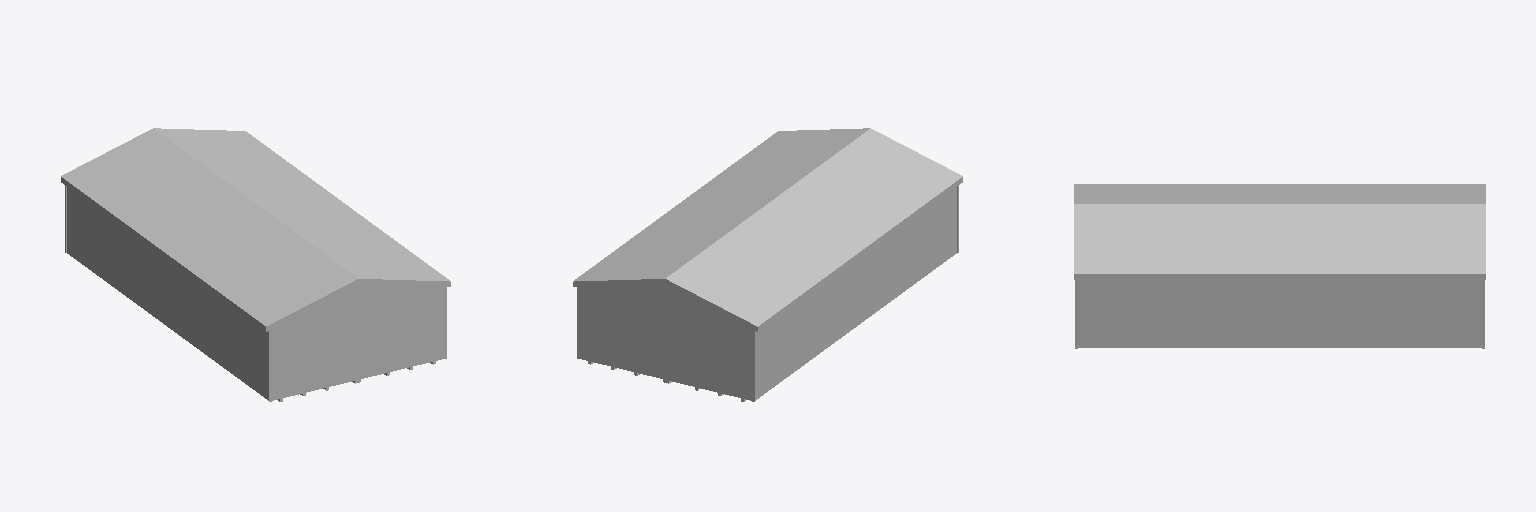
Rendered from Double Garage 3-12 PITCH ROOF_20x40.obj.
3 views of the same model, side by side, from view 1: azimuth 30°, elevation 25°; view 2: azimuth 150°, elevation 25°; view 3: azimuth 270°, elevation 25° (orthographic).
Visible parts, largest first — view 1: Double Garage 3-12 PITCH ROOF_20x40.obj; view 2: Double Garage 3-12 PITCH ROOF_20x40.obj; view 3: Double Garage 3-12 PITCH ROOF_20x40.obj.
Boxes of the visible parts, <box> form: Double Garage 3-12 PITCH ROOF_20x40.obj: <box>61,128,450,401</box>; Double Garage 3-12 PITCH ROOF_20x40.obj: <box>573,128,962,401</box>; Double Garage 3-12 PITCH ROOF_20x40.obj: <box>1074,184,1485,348</box>.
Bounding box in the file's own units: 6.4 × 3.46 × 12.29.